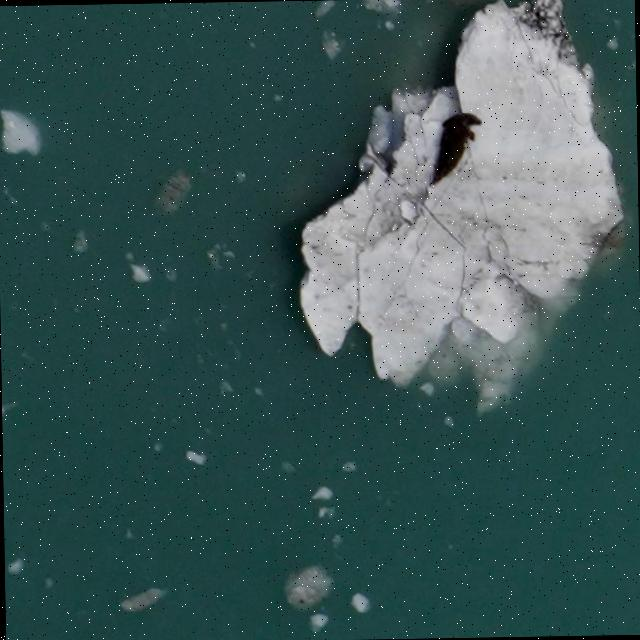seal: (409, 101, 485, 193)
